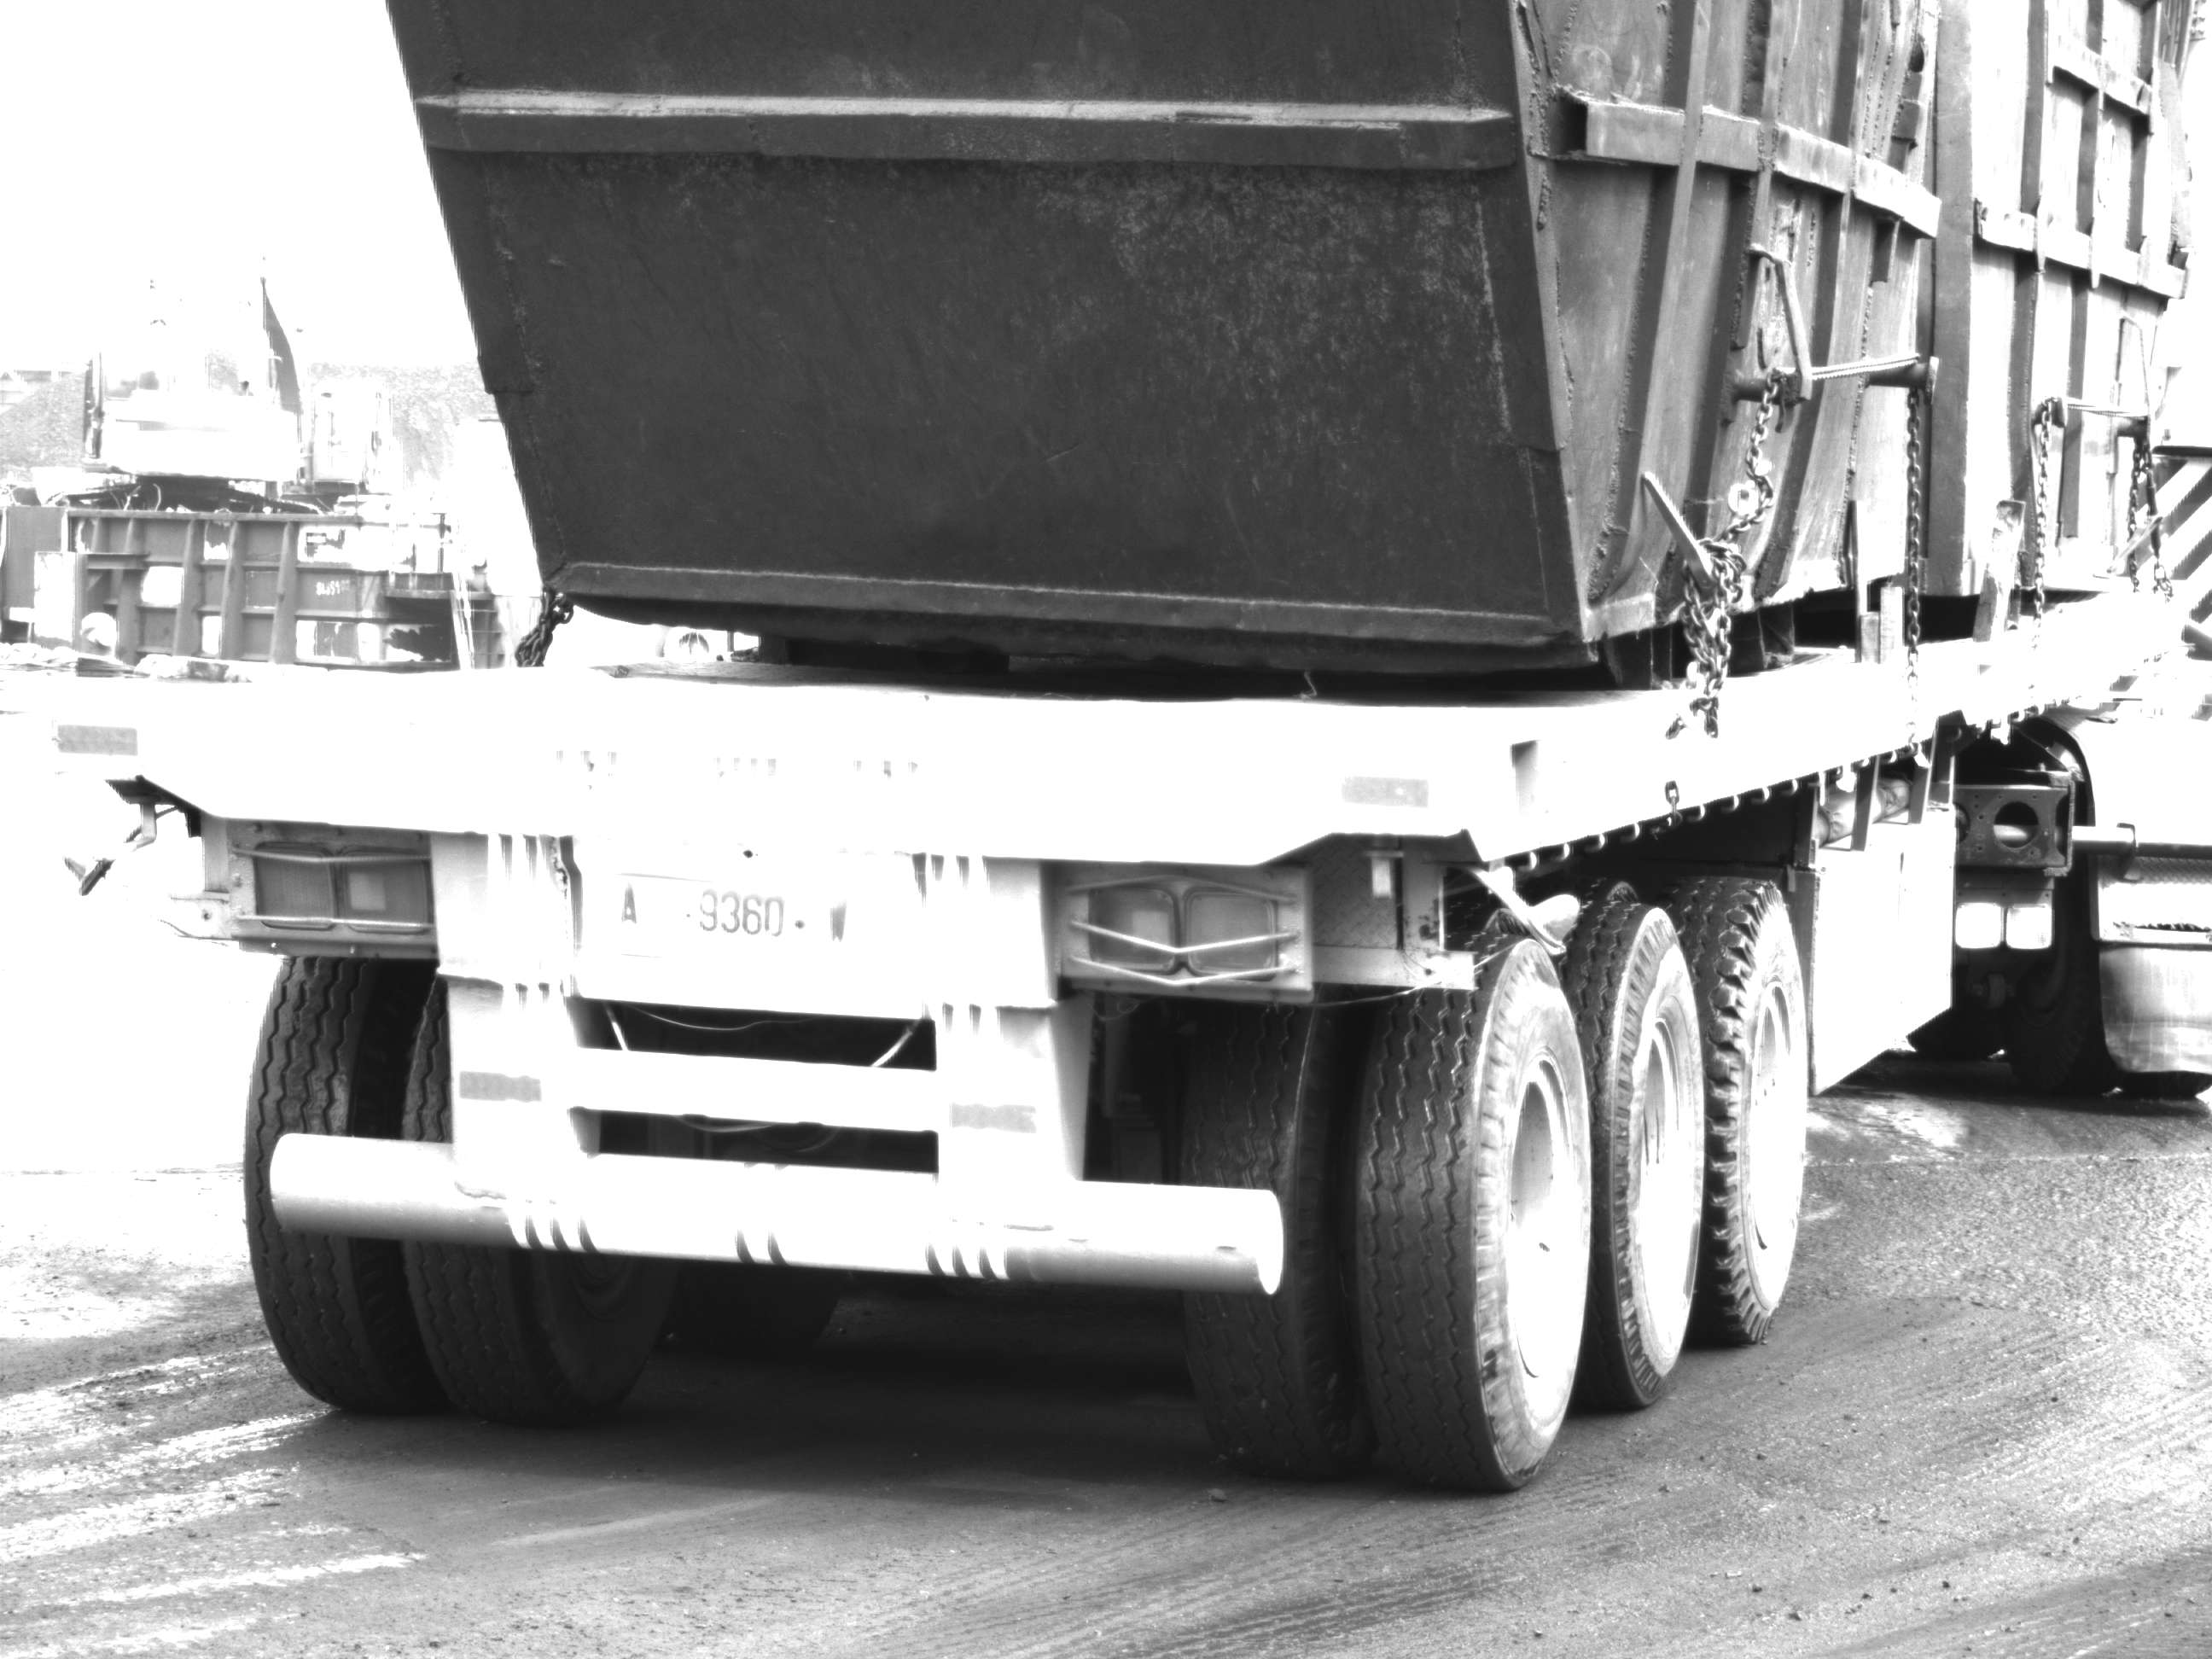day_truck_rear: (44, 637, 1645, 1534)
plate: (600, 868, 894, 978)
